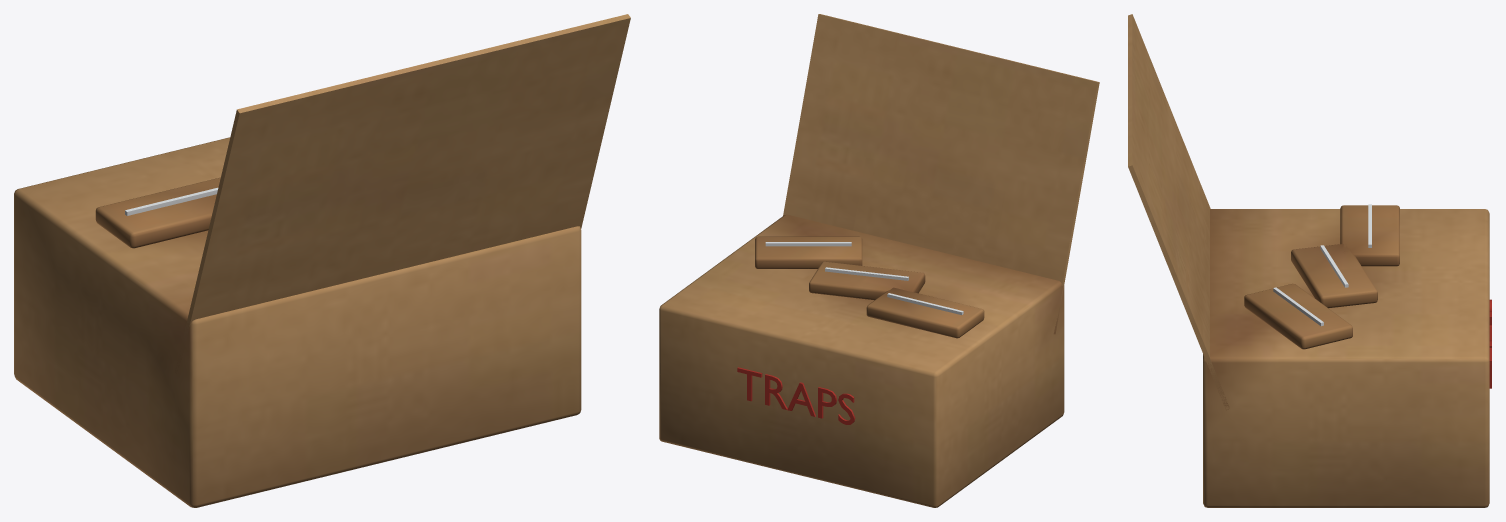
The model's file is fp-trapbox.gltf.
3 renders of one model, left to right at view 1: azimuth 30°, elevation 25°; view 2: azimuth 150°, elevation 25°; view 3: azimuth 270°, elevation 25°, orthographic. The views are drawn at different scales.
Parts seen in each view (by area): view 1: model; view 2: model; view 3: model.
Boxes of the visible parts, left/top/right/bottom form: model: left=14, top=14, right=630, bottom=507; model: left=659, top=14, right=1099, bottom=507; model: left=1128, top=14, right=1491, bottom=507.
Bounding box in the file's own units: 0.3 × 0.3184 × 0.3049.
4 materials, 2 textured.
